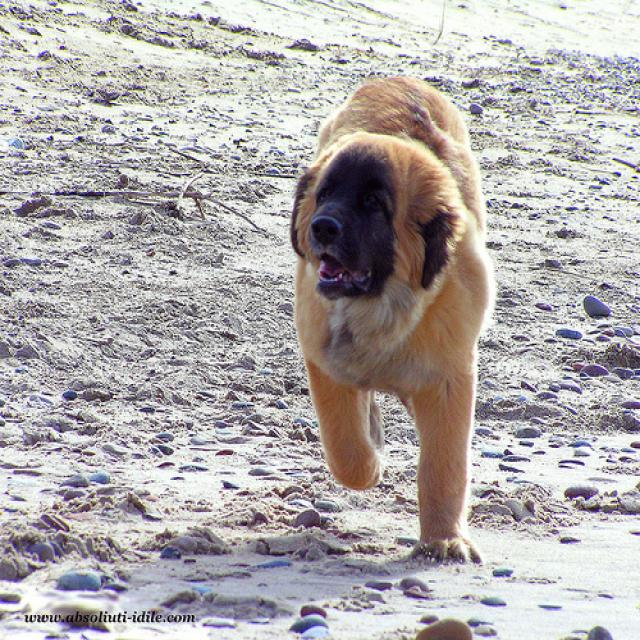dog-leonberger: (280, 61, 506, 570)
